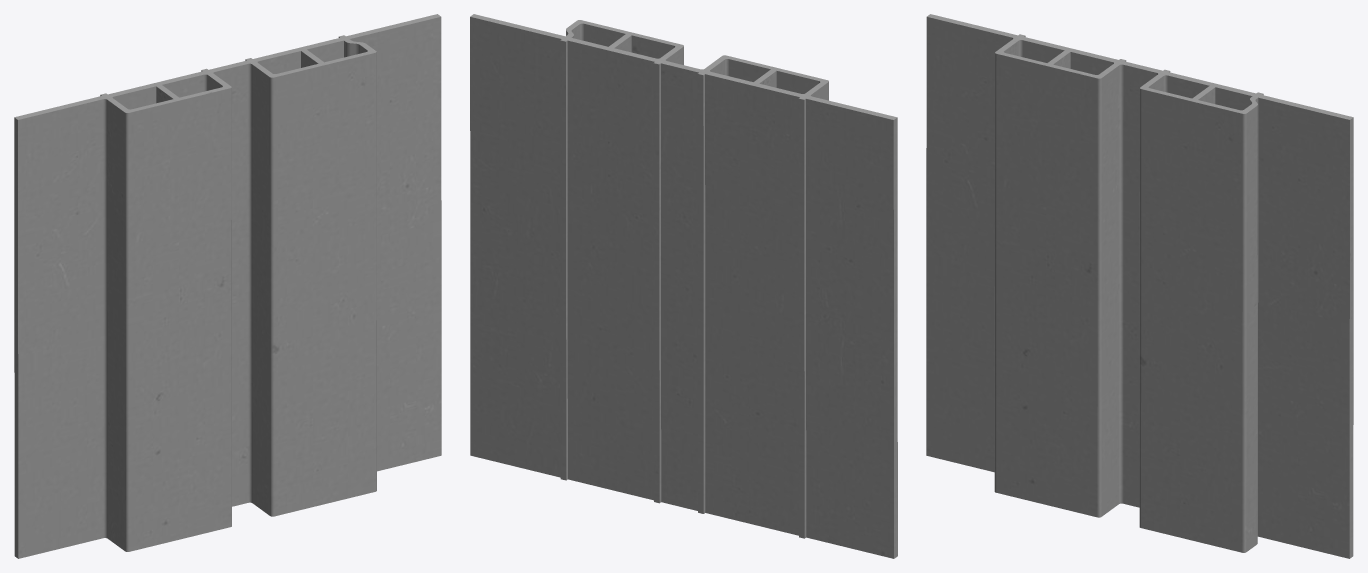
File: ikilihampanel.glb
3 views of the same model, side by side, from view 1: azimuth 30°, elevation 25°; view 2: azimuth 150°, elevation 25°; view 3: azimuth 330°, elevation 25° (orthographic).
Parts seen in each view (by area): view 1: Plane.008; view 2: Plane.008; view 3: Plane.008.
Boxes of the visible parts, x1,y1,x2,y2 form: Plane.008: [14, 14, 441, 558]; Plane.008: [470, 14, 897, 558]; Plane.008: [926, 14, 1353, 558].
Bounding box in the file's own units: 8.1 × 8.03 × 0.8706.
Materials: 1 (1 with a texture image).
